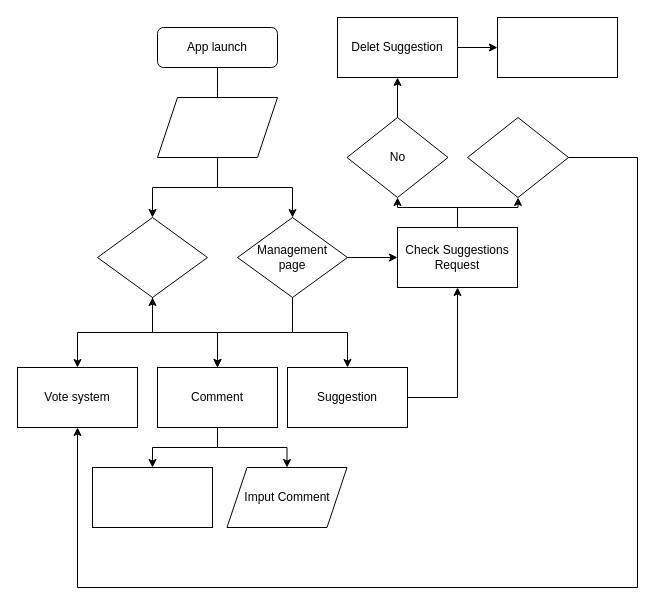
Image size: 656x613. Some labels were removed from this diagram. Here are the shapes that lost their labels. From the top down, the centre of each, then its label:
At point 557,47: "Send Message to Employee (Suggention denied)".
At point 217,127: "Employee login/ sign in".
At point 517,157: "Yes".
At point 152,257: "Employee page".
At point 152,497: "View Comment".
